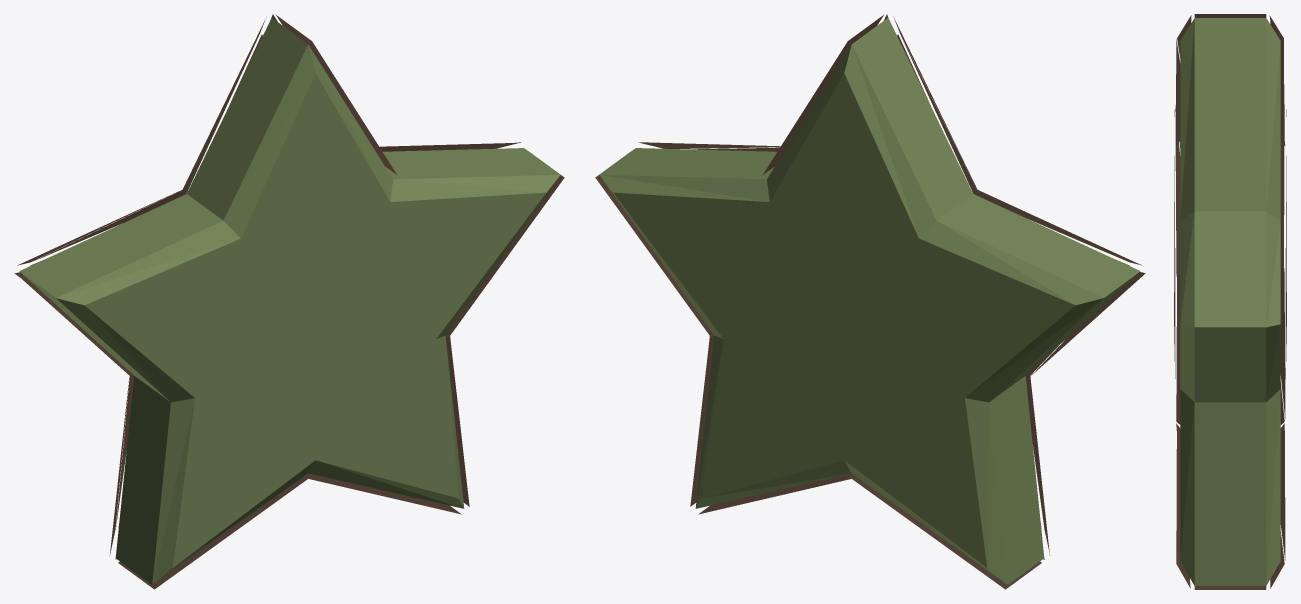
Rendered from prop_301.glb.
3 views of the same model, side by side, from view 1: azimuth 30°, elevation 25°; view 2: azimuth 150°, elevation 25°; view 3: azimuth 270°, elevation 25° (orthographic).
Visible parts, largest first — view 1: prop_301; view 2: prop_301; view 3: prop_301.
Part boxes in pixels (box(x1,y1,x2,y2)): prop_301: box(14, 14, 564, 589); prop_301: box(595, 14, 1145, 589); prop_301: box(1174, 14, 1286, 589).
Bounding box in the file's own units: 0.83 × 0.7887 × 0.161.
